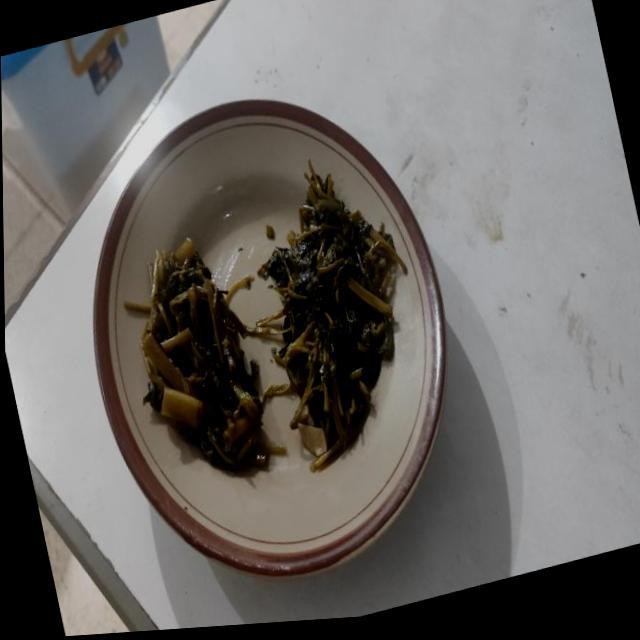tumis_kangkung: (258, 159, 408, 472), (124, 238, 286, 470)
